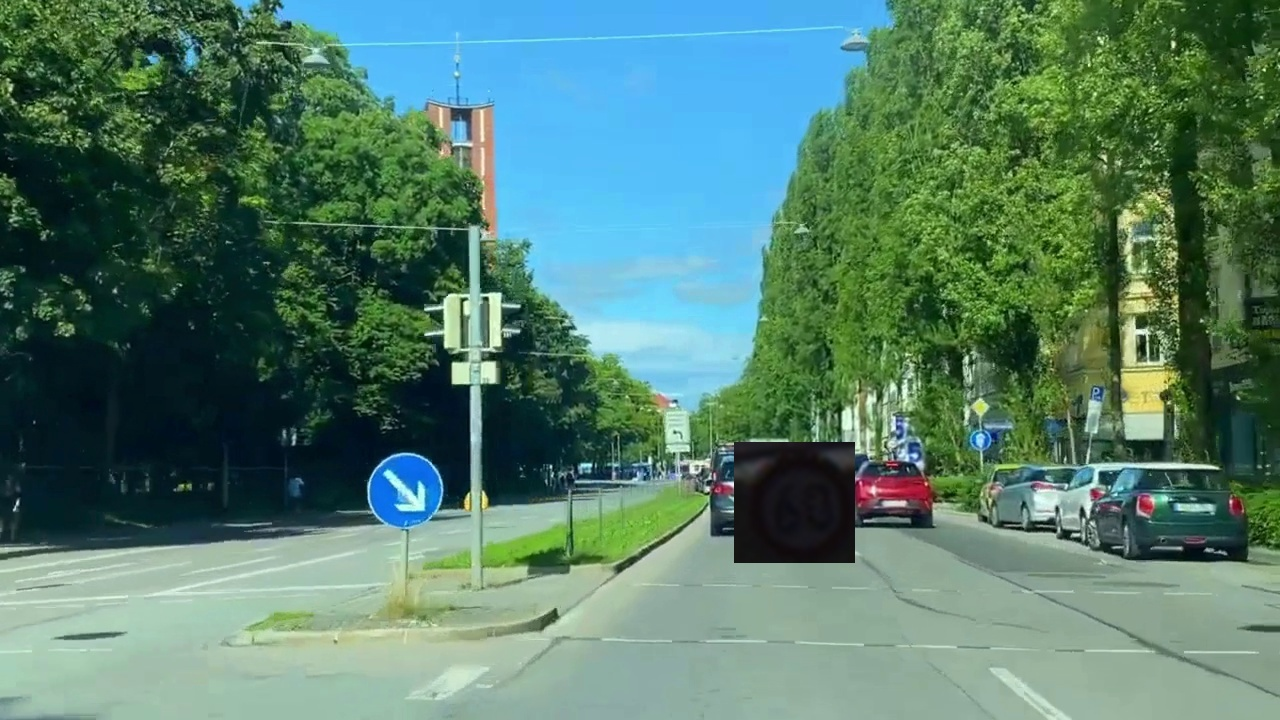Speed 60: (734, 442, 855, 563)
